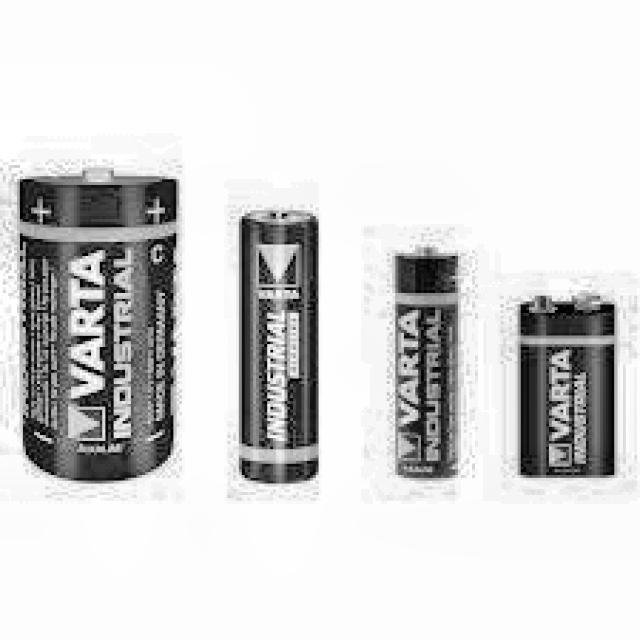Battery: (23, 174, 176, 481), (242, 208, 318, 478), (521, 299, 617, 478), (398, 247, 458, 475)
